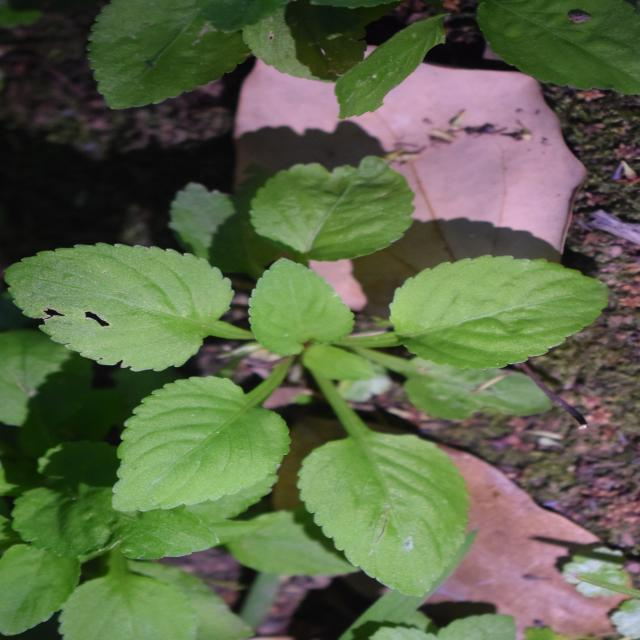Viola: (79, 34, 458, 568)
